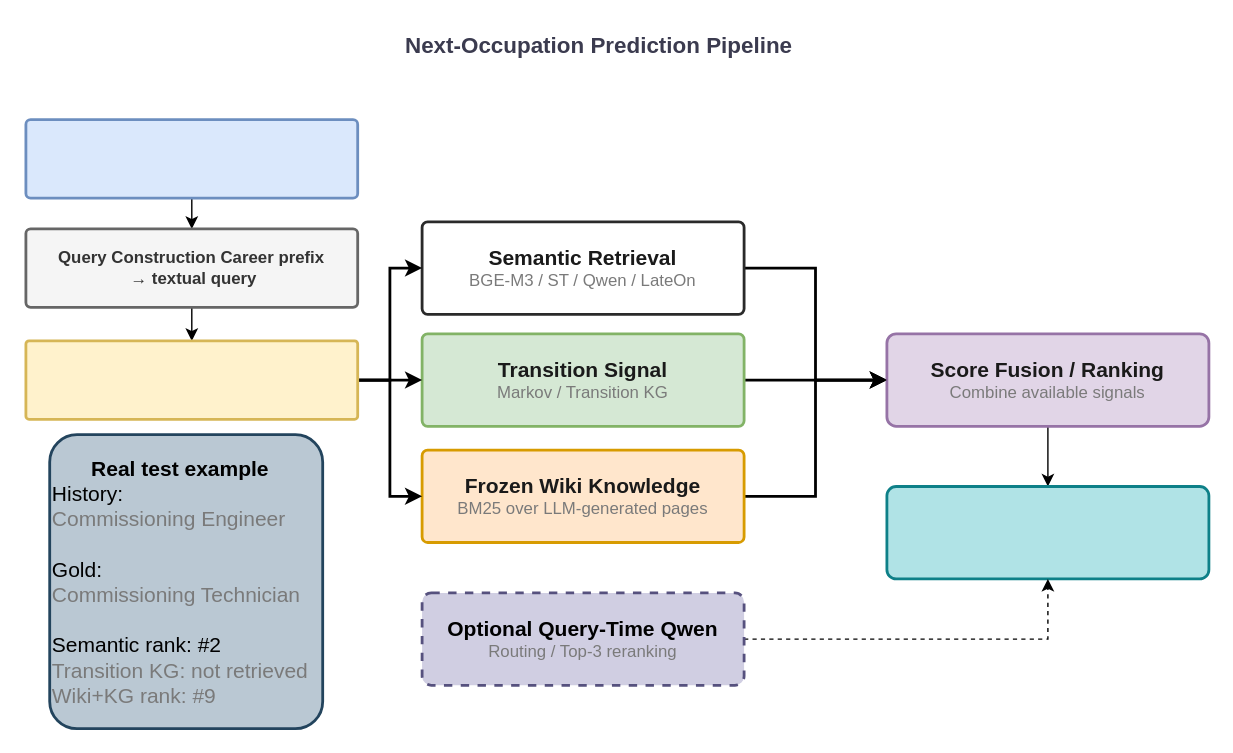
Image size: 1233x753. Some labels were removed from this diagram. The shapes that lost their labels are listed below. From the top down, each one's box as (x1, y1, x2, y2) in pixels, then its label:
(24, 118, 358, 199): Observed Career History ESCO occupations + education
(24, 339, 358, 420): Fixed Candidate Space 2,982 ESCO occupations
(885, 484, 1210, 580): Ranked Occupations Top-k ESCO predictions
